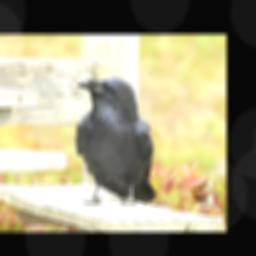Crow: (74, 77, 157, 205)
